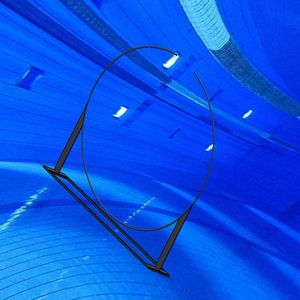circle: (42, 44, 217, 278)
